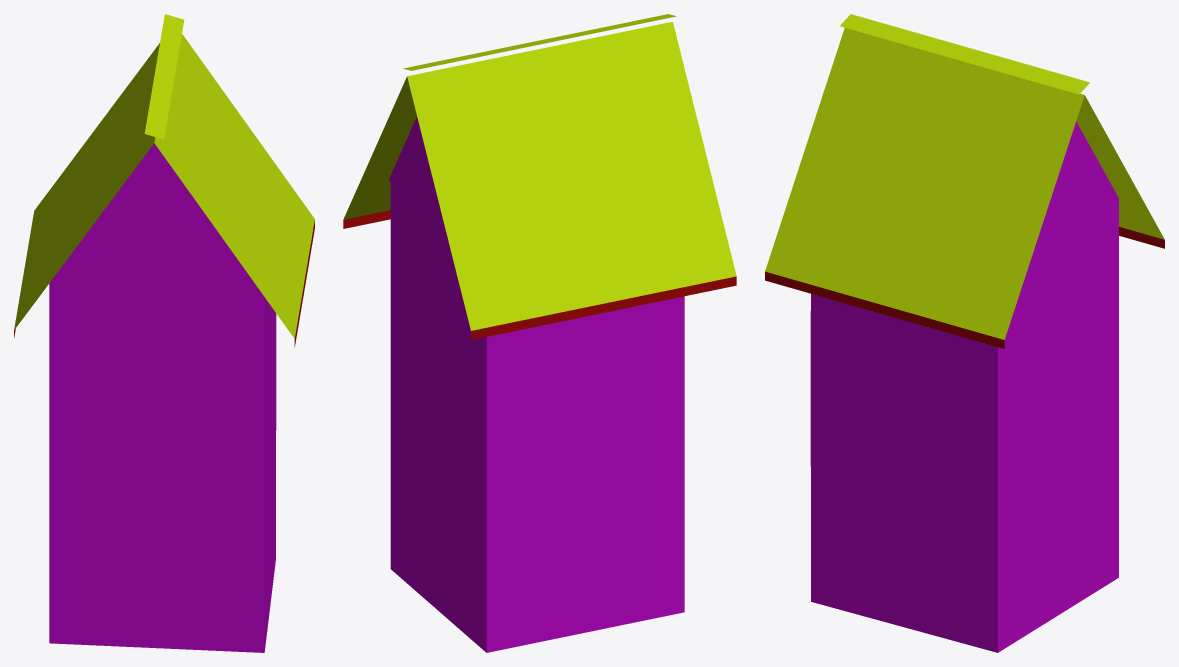
Rendered from mey_25.glb.
3 views of the same model, side by side, from view 1: azimuth 30°, elevation 25°; view 2: azimuth 150°, elevation 25°; view 3: azimuth 270°, elevation 25° (orthographic). The views are drawn at different scales.
Parts seen in each view (by area): view 1: mey_25; view 2: mey_25; view 3: mey_25.
Boxes of the visible parts, x1,y1,x2,y2 form: mey_25: (14,14,314,652); mey_25: (343,14,736,652); mey_25: (765,14,1164,652).
Size of the model in its own units: 4.83 by 7.18 by 4.84.
